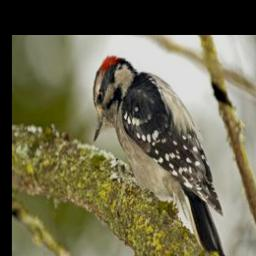Woodpecker: (93, 51, 238, 256)
